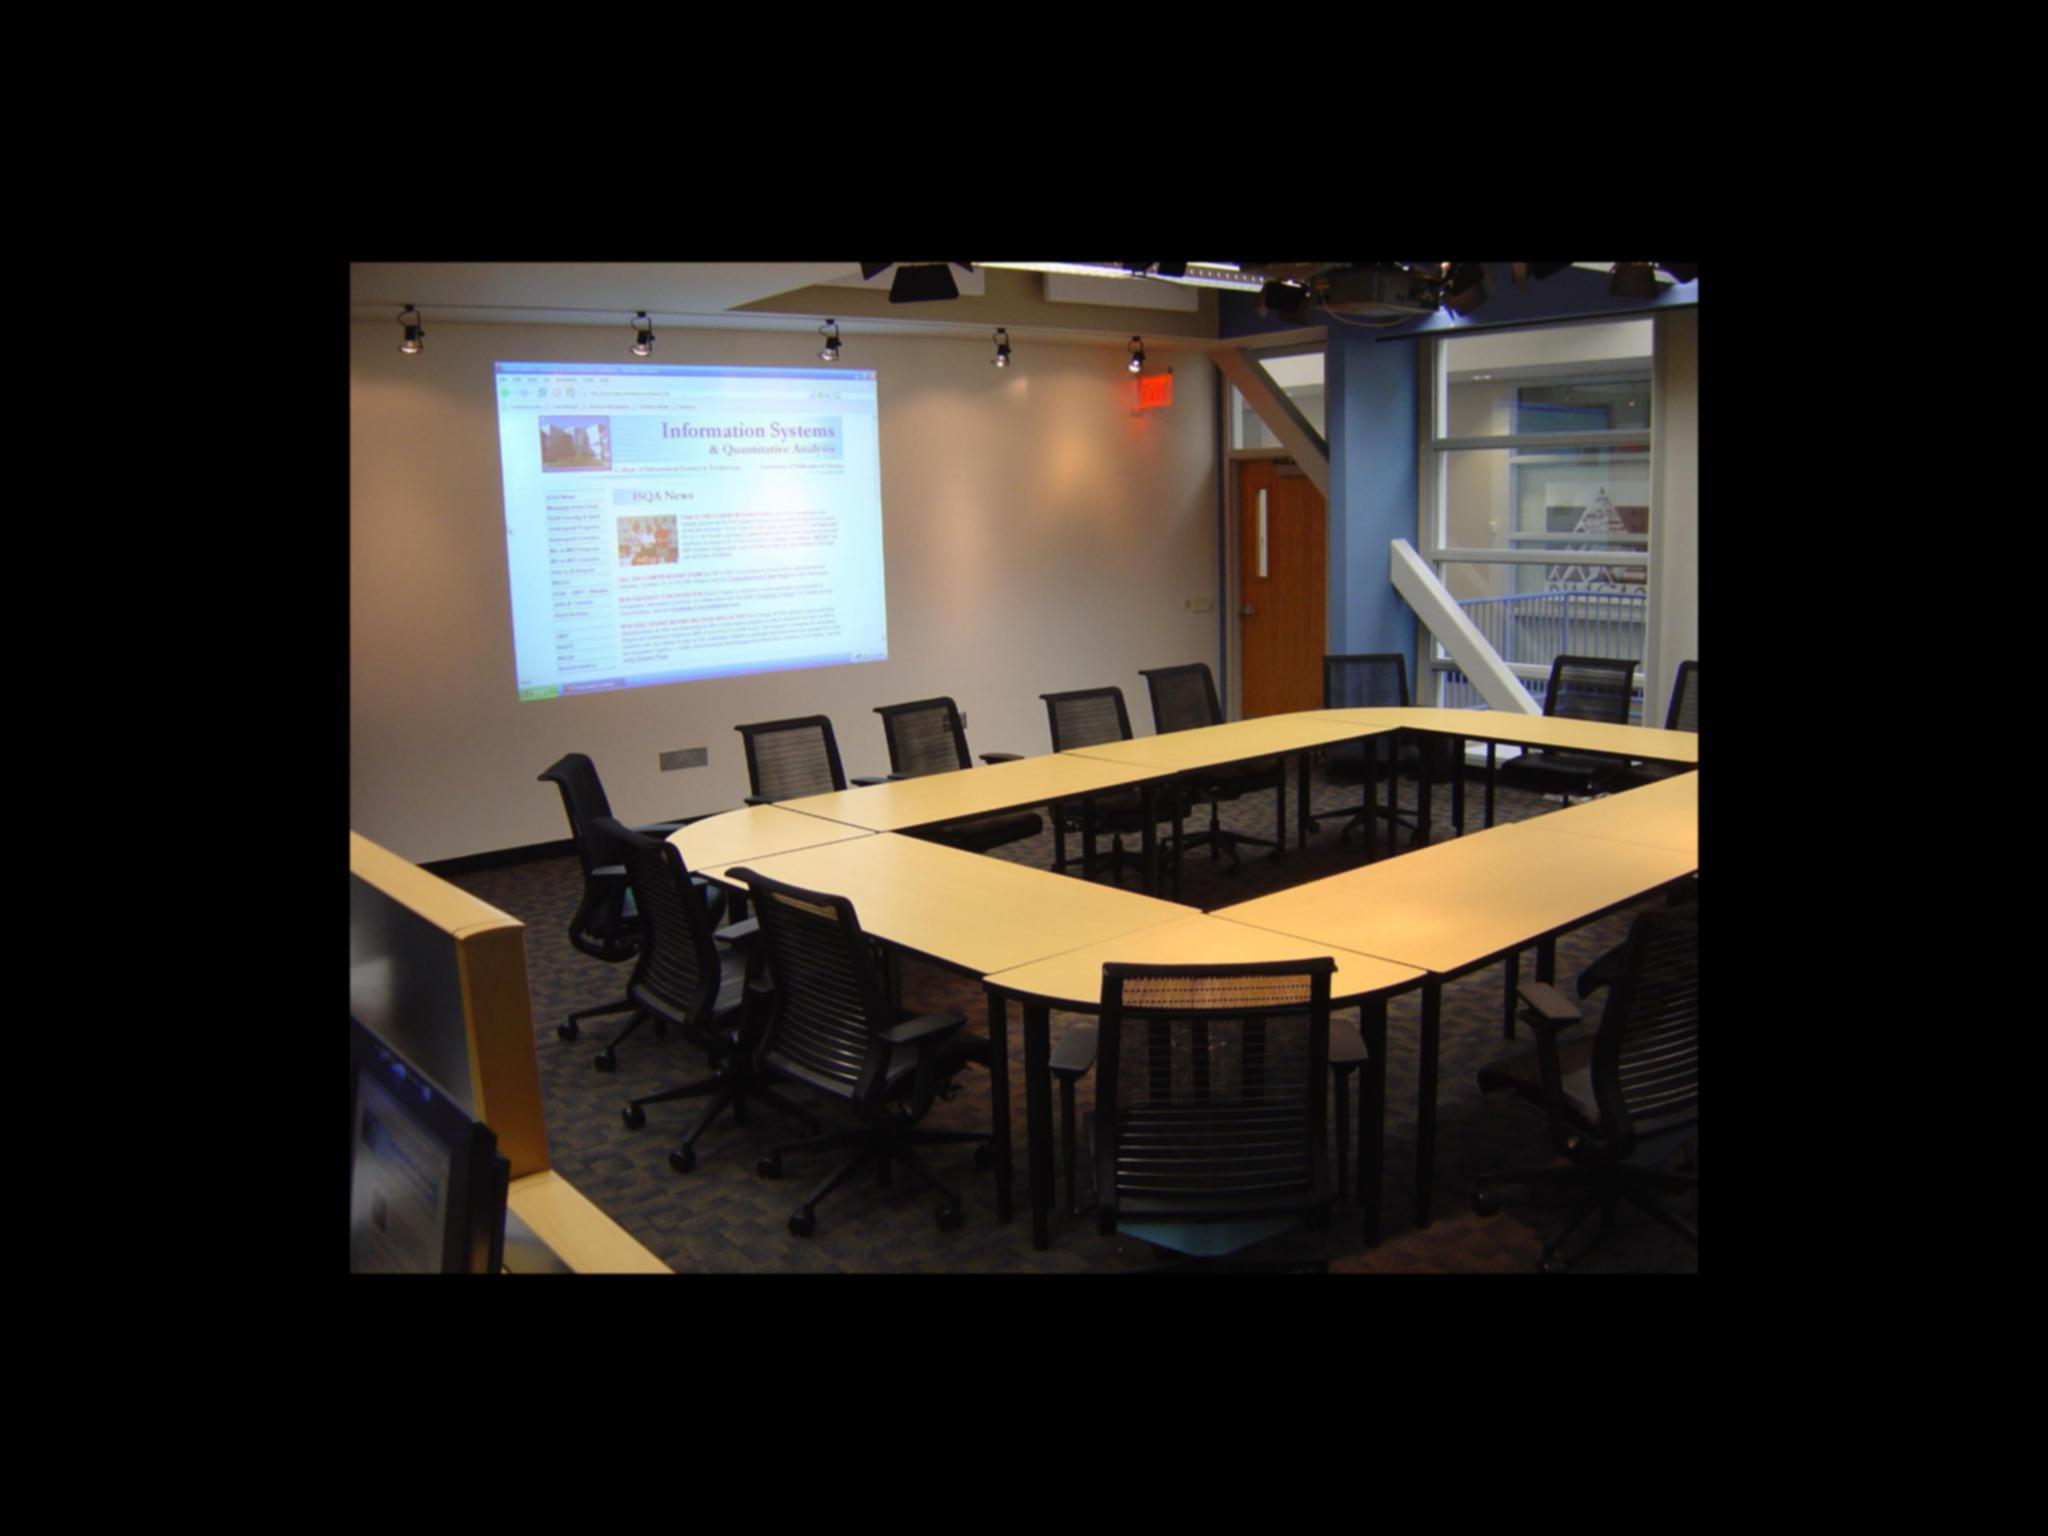Puerta: (1232, 452, 1322, 709)
